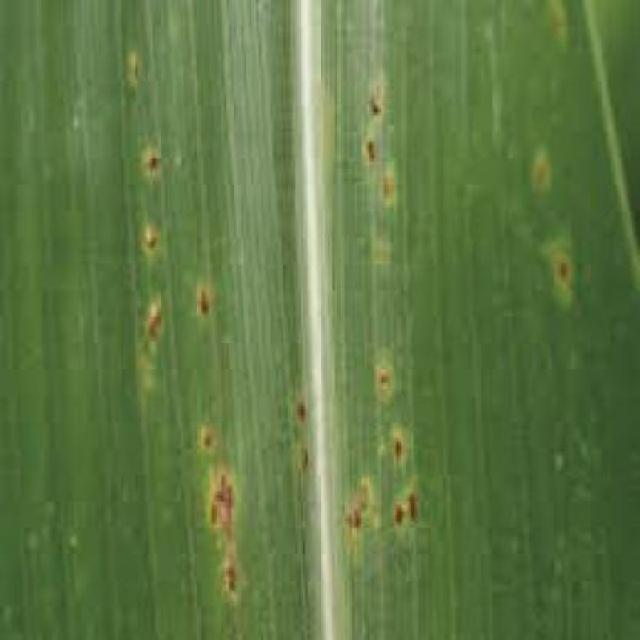Corn_Rust: (37, 6, 481, 597)
